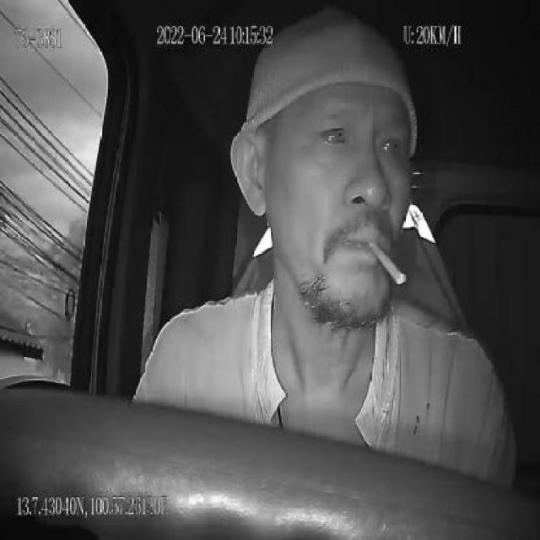smoking: (366, 237, 410, 288)
